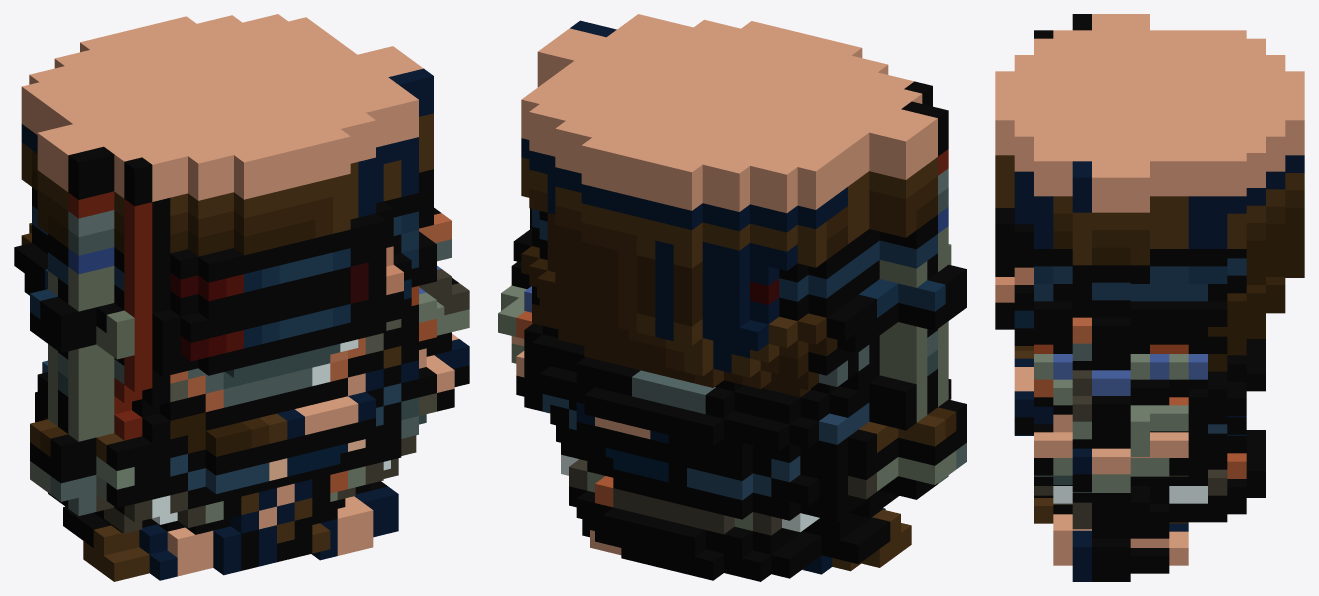
File: Icon_702_01.obj
The picture shows the model from 3 angles, left to right: view 1: azimuth 30°, elevation 25°; view 2: azimuth 150°, elevation 25°; view 3: azimuth 270°, elevation 25°; orthographic projection. The views are drawn at different scales.
Bounding box in the file's own units: 2.3 × 2.4 × 1.6.
